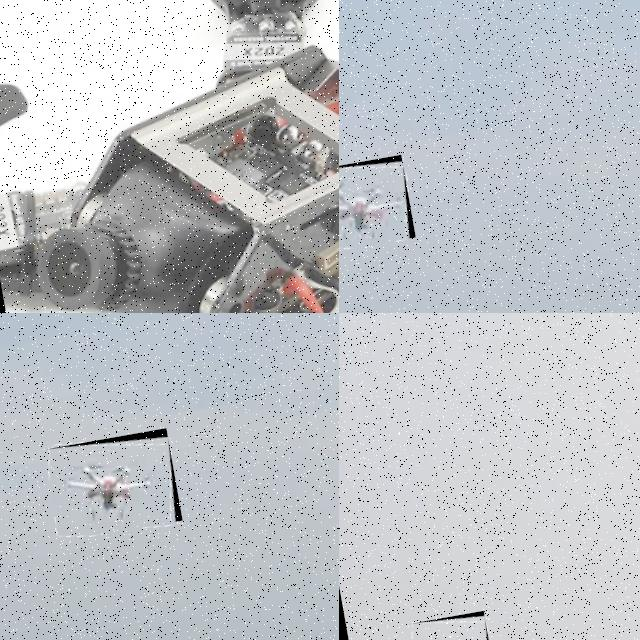drone: (0, 0, 339, 313), (43, 427, 182, 542), (339, 154, 416, 253), (409, 610, 495, 640)
